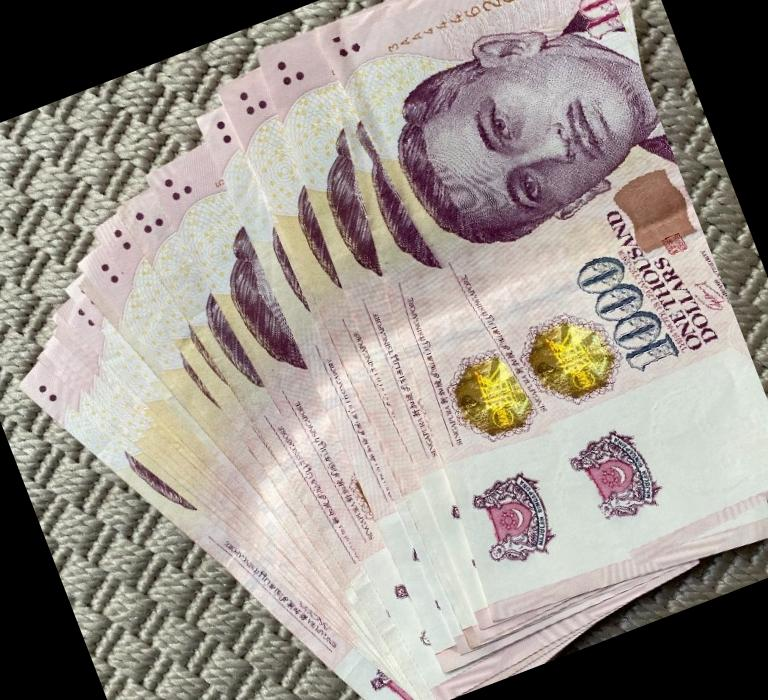1000SingaporeDollar: (300, 0, 768, 614)
